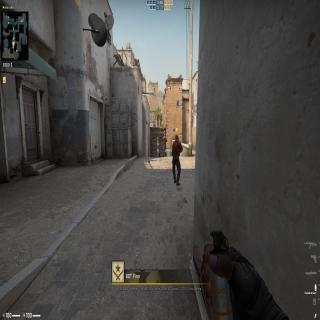CT-Head: (159, 152, 160, 155)
T-Head: (175, 133, 179, 141), (164, 134, 166, 138)
